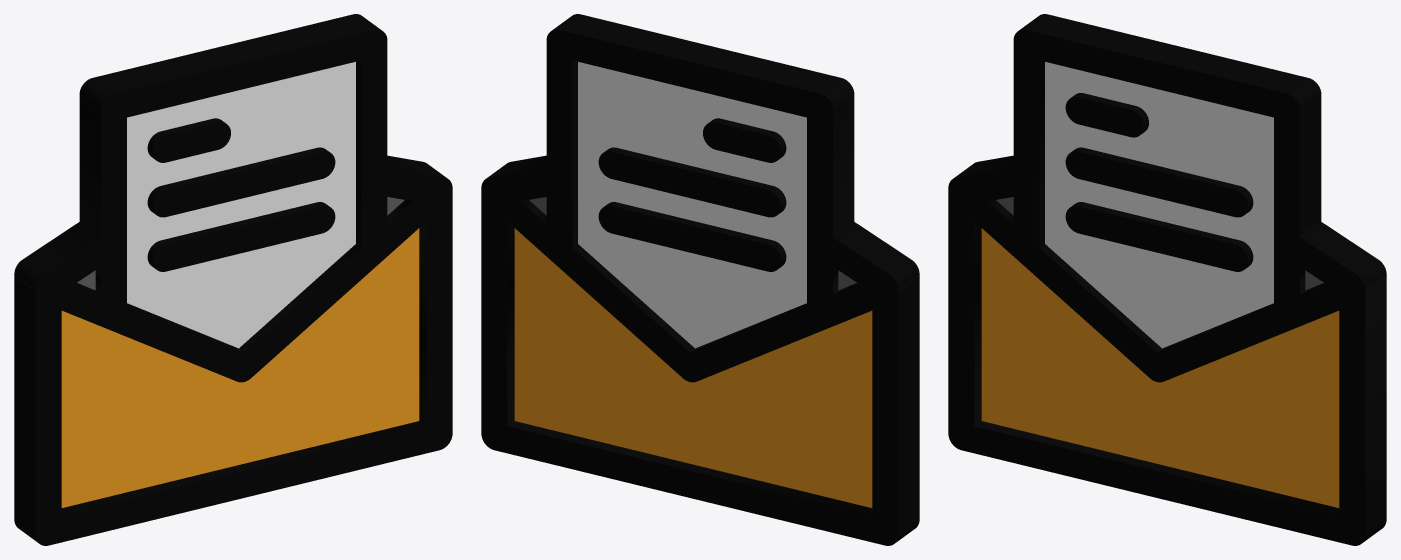
File: Contact.glb
3 renders of one model, left to right at view 1: azimuth 30°, elevation 25°; view 2: azimuth 150°, elevation 25°; view 3: azimuth 330°, elevation 25°, orthographic.
Parts seen in each view (by area): view 1: Curve.011, Plane, Curve.005, Curve.013, Curve.014, Curve.012; view 2: Curve.011, Plane, Curve.005, Curve.013, Curve.014, Curve.012; view 3: Curve.011, Plane, Curve.005, Curve.013, Curve.014, Curve.012.
Part boxes in pixels (left/top/right/bottom): Curve.011: left=14, top=14, right=452, bottom=545; Plane: left=61, top=228, right=419, bottom=507; Curve.005: left=127, top=62, right=355, bottom=348; Curve.013: left=147, top=147, right=335, bottom=217; Curve.014: left=147, top=202, right=335, bottom=271; Curve.012: left=147, top=118, right=230, bottom=162; Curve.011: left=481, top=14, right=919, bottom=545; Plane: left=514, top=228, right=872, bottom=507; Curve.005: left=578, top=62, right=806, bottom=348; Curve.013: left=598, top=147, right=786, bottom=217; Curve.014: left=598, top=202, right=786, bottom=271; Curve.012: left=703, top=118, right=786, bottom=162; Curve.011: left=948, top=14, right=1386, bottom=545; Plane: left=981, top=228, right=1339, bottom=507; Curve.005: left=1045, top=62, right=1273, bottom=348; Curve.013: left=1065, top=147, right=1253, bottom=217; Curve.014: left=1065, top=202, right=1253, bottom=271; Curve.012: left=1065, top=93, right=1148, bottom=137.
Bounding box in the file's own units: 1.36 × 1.36 × 0.1202.
